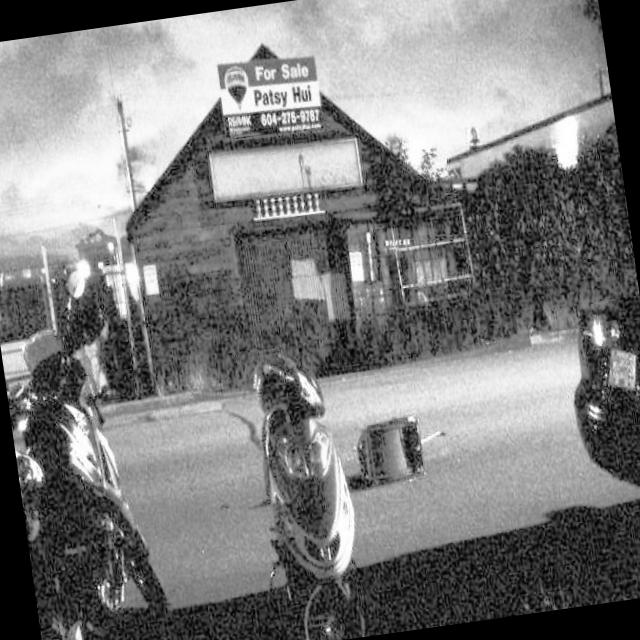Car: (539, 257, 640, 521)
Motorcycle: (0, 294, 170, 640), (226, 318, 380, 640)
